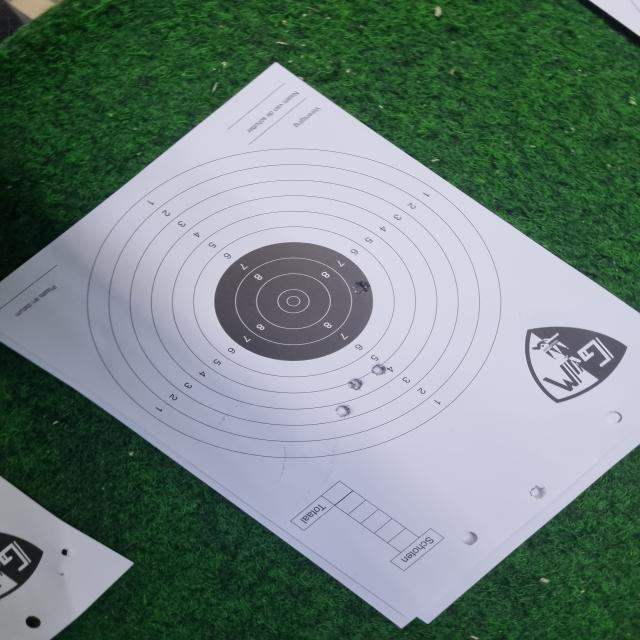0: (530, 486, 546, 500)
3: (335, 404, 352, 418)
5: (372, 364, 386, 376), (348, 379, 362, 390)
7: (352, 281, 369, 294)
Target: (87, 148, 500, 459)
black_contour: (213, 241, 373, 361)
